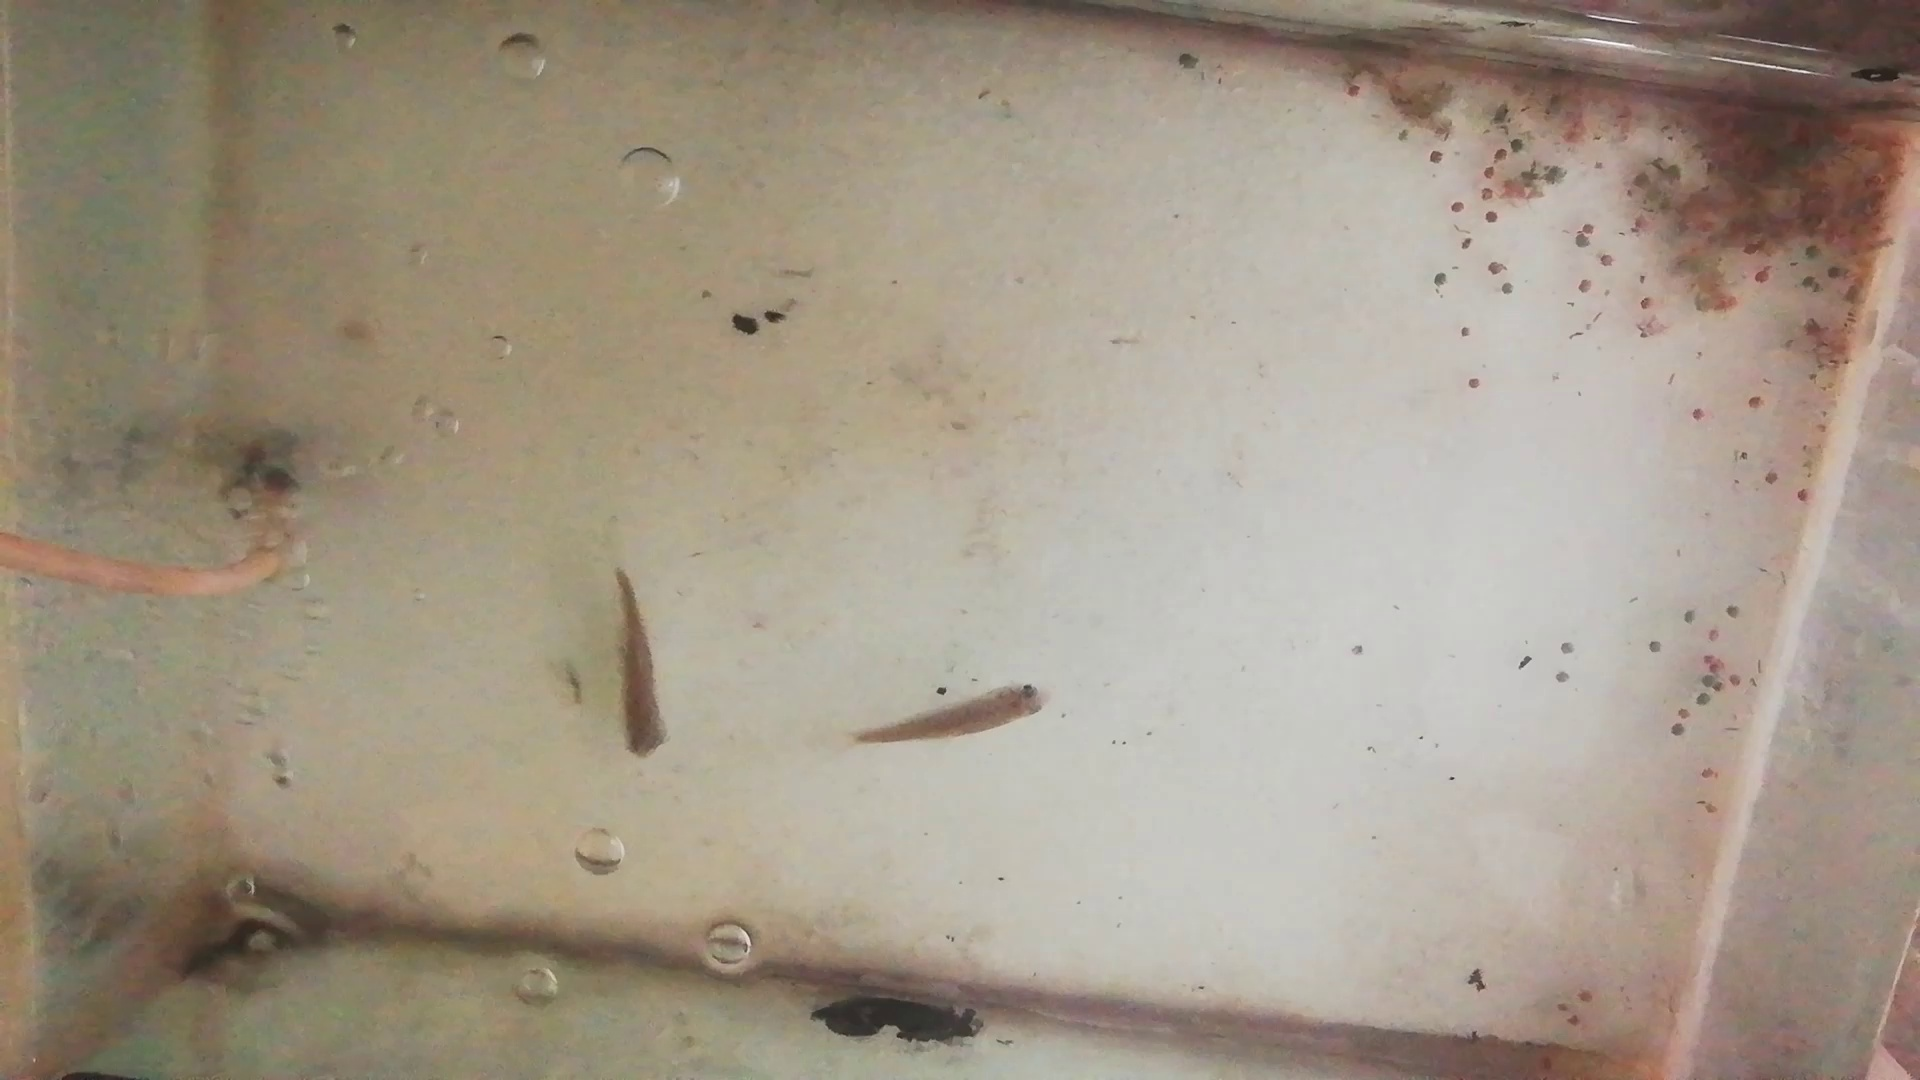fish: (856, 684, 1055, 742), (612, 574, 670, 756)
